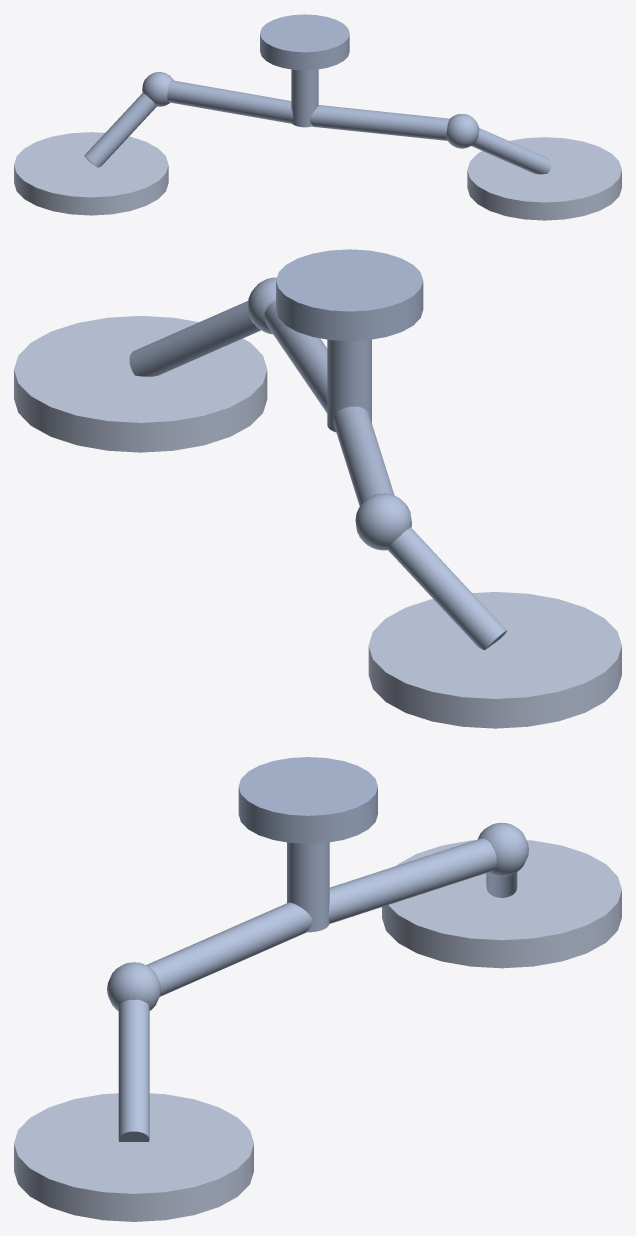
Rendered from light.glb.
The picture shows the model from 3 angles, top to bottom: view 1: azimuth 30°, elevation 25°; view 2: azimuth 150°, elevation 25°; view 3: azimuth 270°, elevation 25°; orthographic projection. The views are drawn at different scales.
Visible parts, largest first — view 1: lamp housing (×2), articulated arm (×4), ceiling mount, joint (×2), suspension; view 2: lamp housing (×2), articulated arm (×4), ceiling mount, joint (×2), suspension; view 3: lamp housing (×2), articulated arm (×4), ceiling mount, joint (×2), suspension.
Boxes of the visible parts, <box> form: lamp housing (×2): <box>14,132,621,220</box>; articulated arm (×4): <box>84,80,551,174</box>; ceiling mount: <box>260,14,349,70</box>; joint (×2): <box>142,72,479,148</box>; suspension: <box>291,69,318,127</box>; lamp housing (×2): <box>14,316,621,728</box>; articulated arm (×4): <box>129,300,506,650</box>; ceiling mount: <box>276,249,423,341</box>; joint (×2): <box>247,277,411,550</box>; suspension: <box>327,339,371,432</box>; lamp housing (×2): <box>14,840,621,1221</box>; articulated arm (×4): <box>118,838,517,1141</box>; ceiling mount: <box>238,757,377,843</box>; joint (×2): <box>107,823,528,1010</box>; suspension: <box>287,842,329,932</box>.
Bounding box in the file's own units: 2.17 × 0.727 × 1.57.
